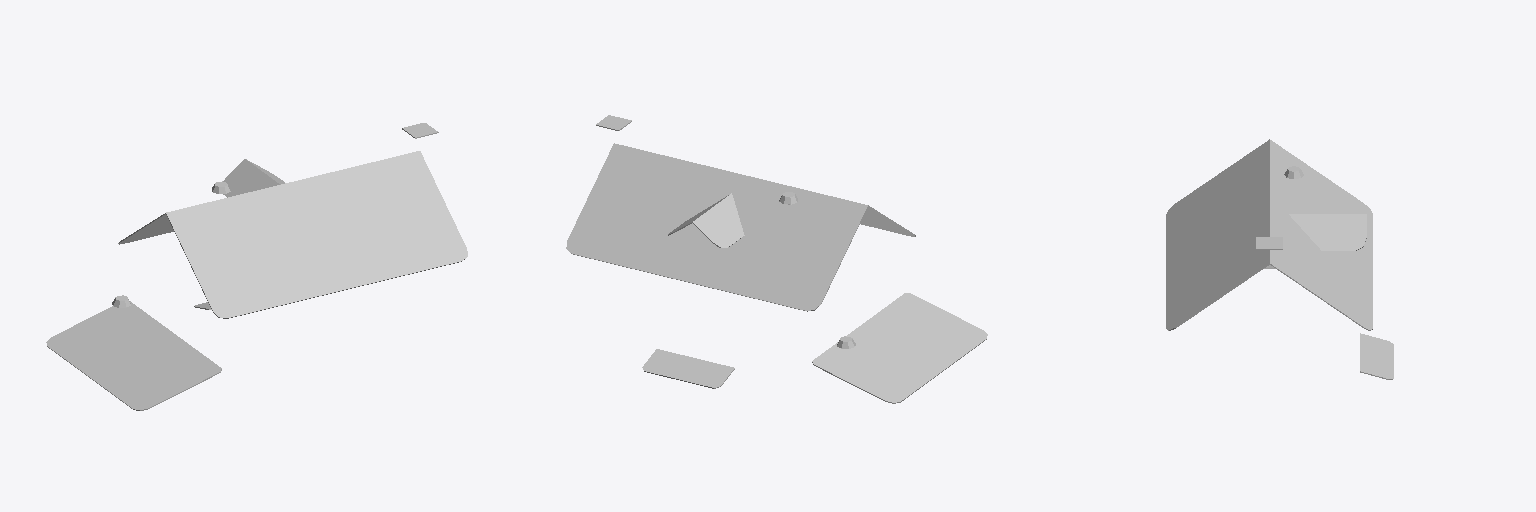
Rendered from building-type-d_roof.obj.
The picture shows the model from 3 angles: view 1: azimuth 30°, elevation 25°; view 2: azimuth 150°, elevation 25°; view 3: azimuth 270°, elevation 25°; orthographic projection.
Parts seen in each view (by area): view 1: building-type-d.001; view 2: building-type-d.001; view 3: building-type-d.001.
Boxes of the visible parts, x1=… form: building-type-d.001: x1=46, y1=123, x2=467, y2=410; building-type-d.001: x1=566, y1=115, x2=987, y2=403; building-type-d.001: x1=1166, y1=139, x2=1393, y2=379.
Bounding box in the file's own units: 1.75 × 0.8867 × 1.01.